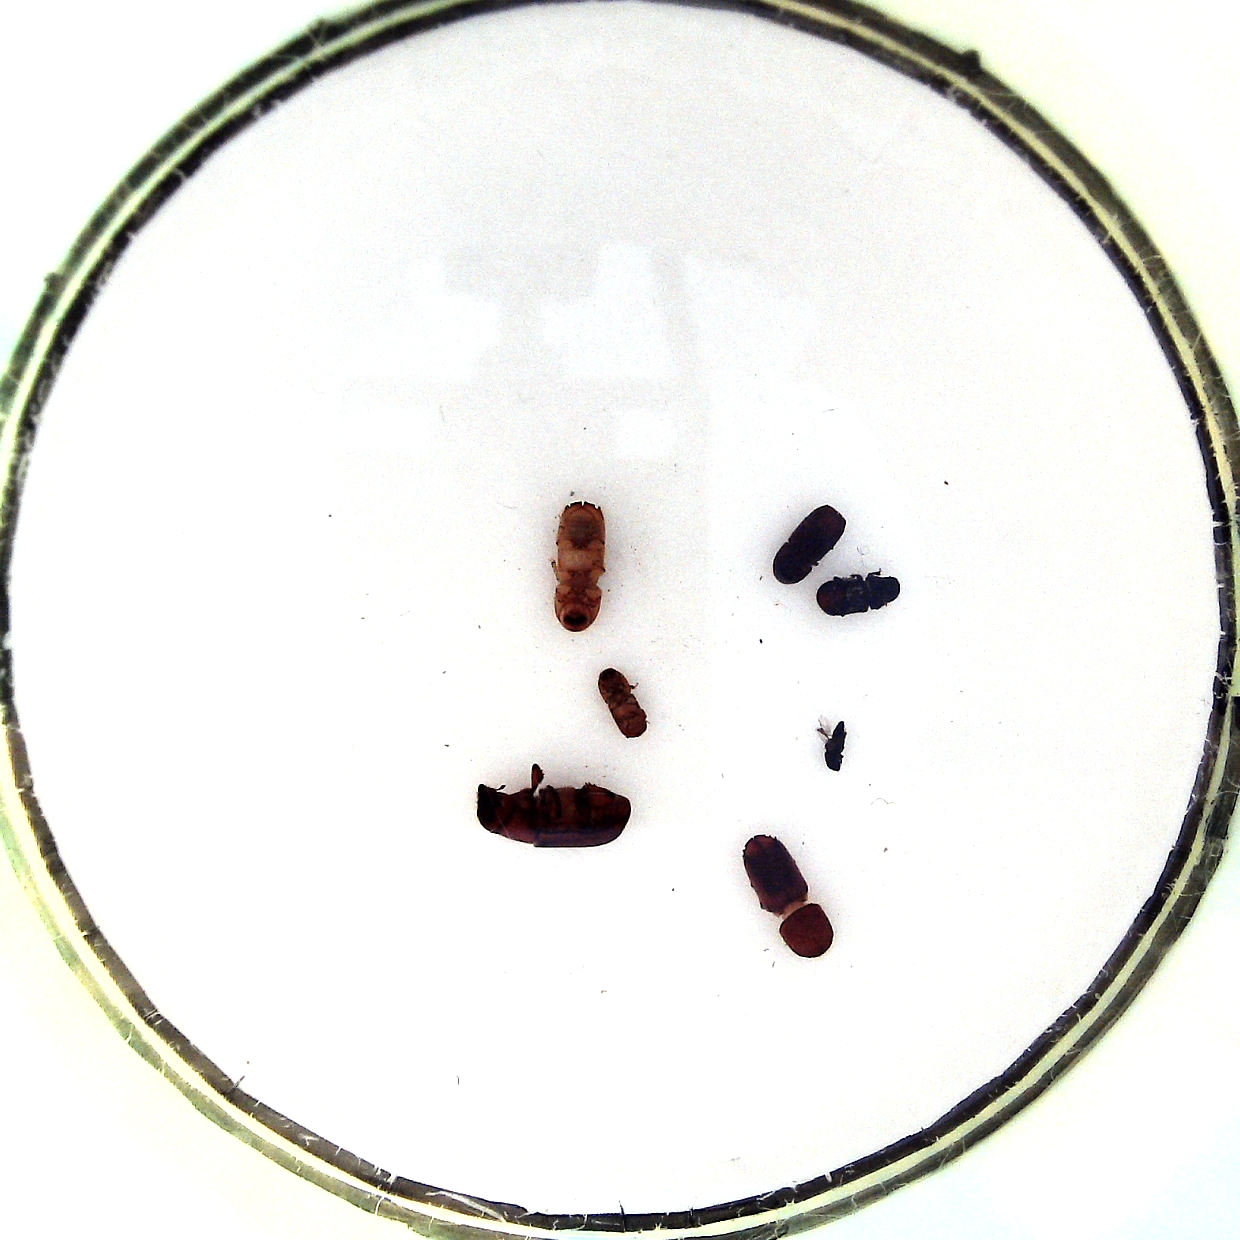Boerner: (740, 831, 836, 961), (548, 495, 608, 634)
Leconte: (471, 762, 636, 854)
Linnaeus: (766, 502, 845, 585)
acuminatus: (595, 664, 653, 743)
armandi: (814, 569, 904, 615)
coleoptera: (810, 715, 849, 774)
